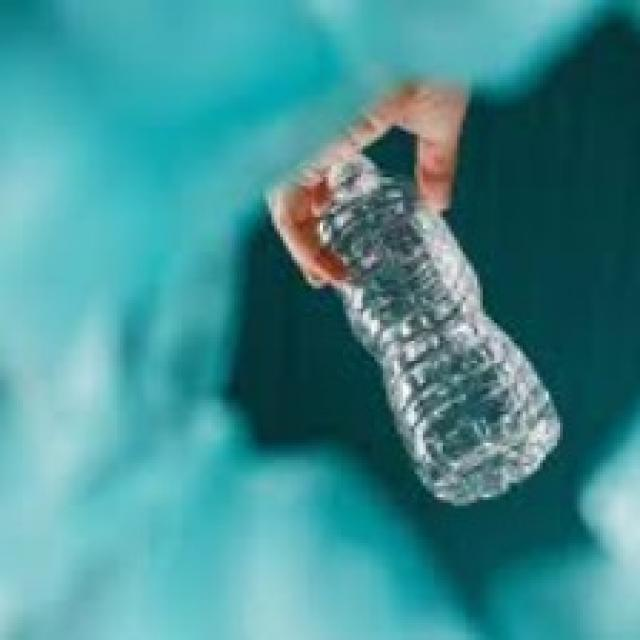plastic_bottle: (289, 130, 579, 525)
